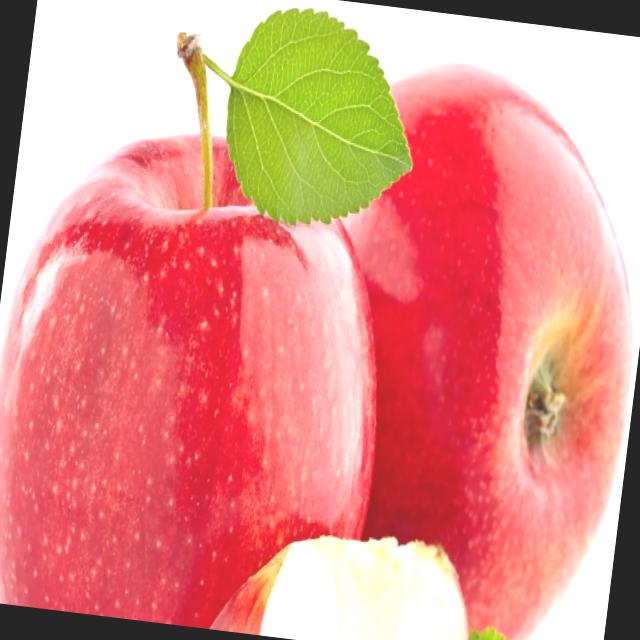apple: (212, 50, 640, 640), (0, 114, 411, 640)
